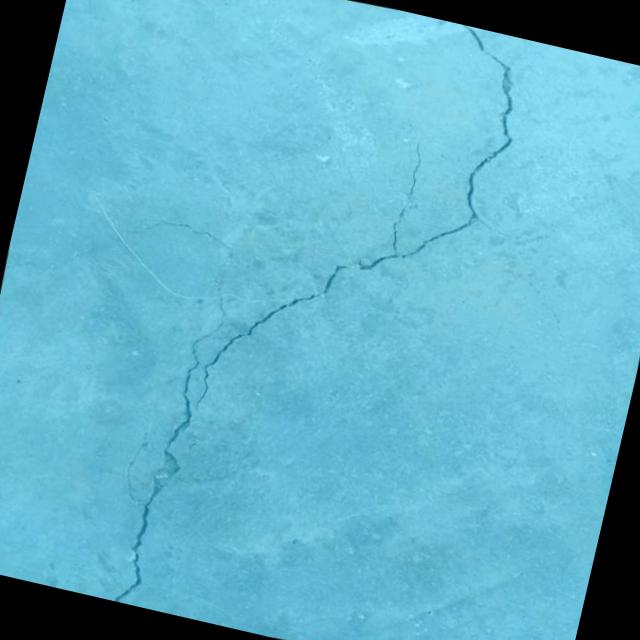crack: (344, 11, 573, 306), (98, 280, 240, 613), (188, 237, 356, 436), (124, 208, 234, 255), (118, 430, 152, 502), (13, 256, 58, 274), (66, 243, 96, 266), (404, 120, 414, 134)
